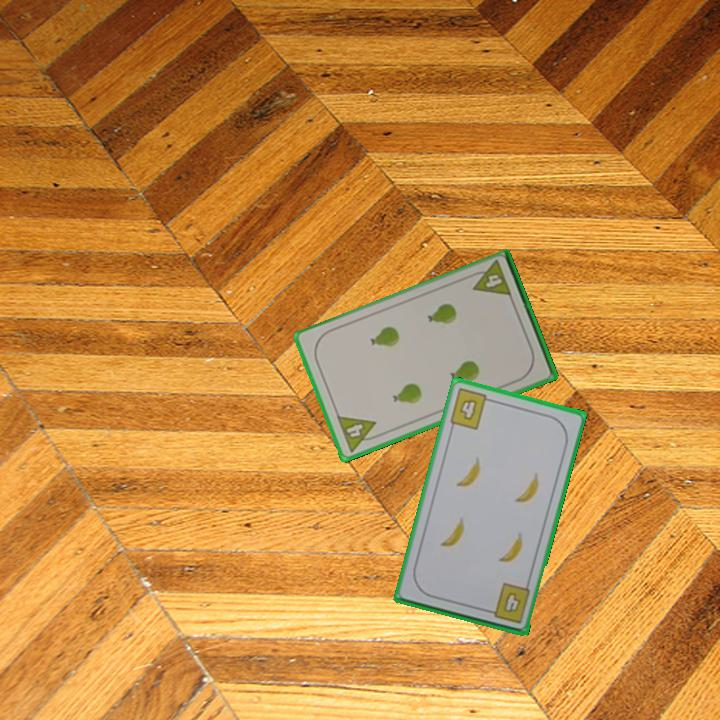4b: (446, 385, 496, 433), (483, 579, 533, 626)
4p: (333, 412, 383, 455), (465, 258, 515, 300)
